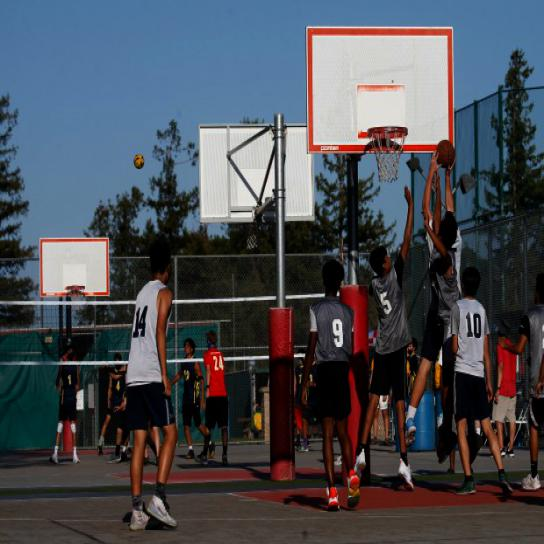basketball-hoop: (367, 122, 408, 186), (239, 200, 269, 252), (64, 282, 88, 308)
